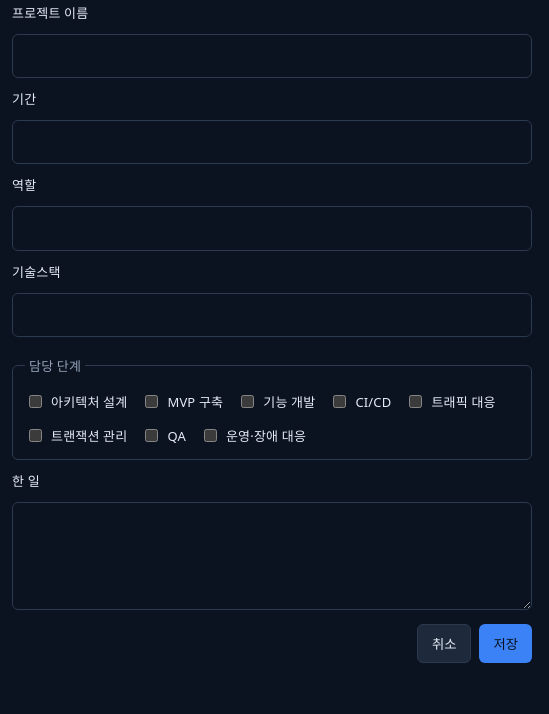
ProjectForm › does not close the form and shows an error when the vault is locked at submit time
The width and height of the screenshot is (549, 714).
Type "정산 서비스" into the field labelled "프로젝트 이름".
click(272, 56); type("정산 서비스")  # box 12,34 -> 532,78
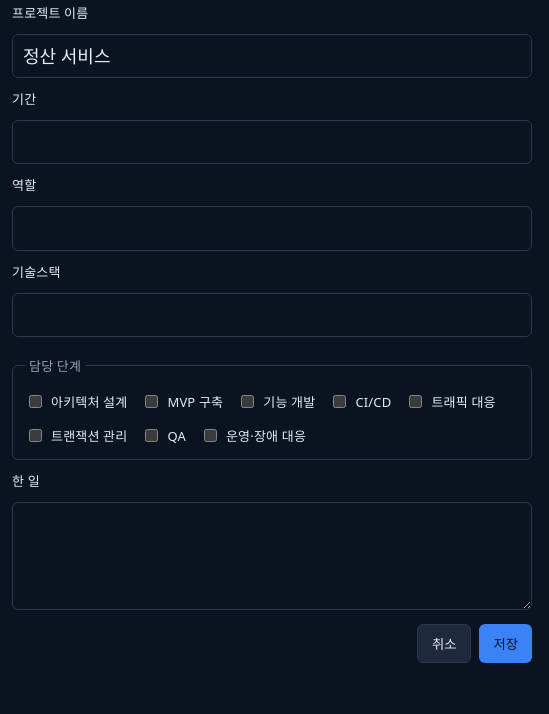
Type "Redis 캐시를 붙였다" into the text box labelled "한 일".
click(272, 556); type("Redis 캐시를 붙였다")  # box 12,502 -> 532,610
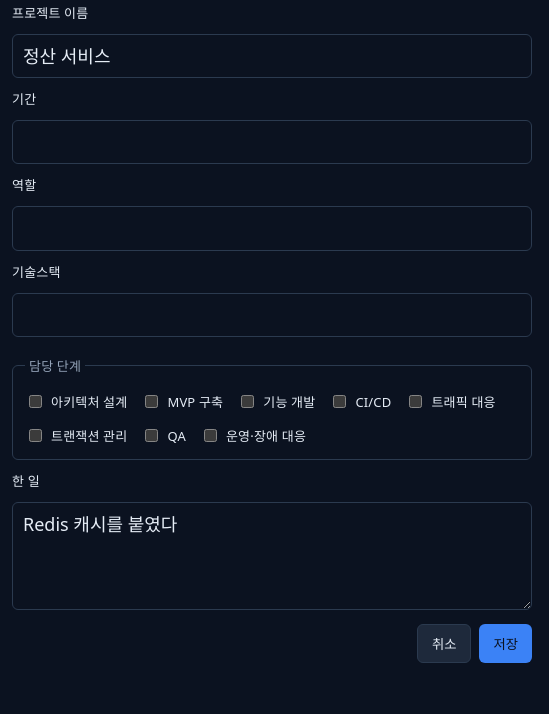
Click the button "저장".
click(506, 644)  # box 480,624 -> 532,663
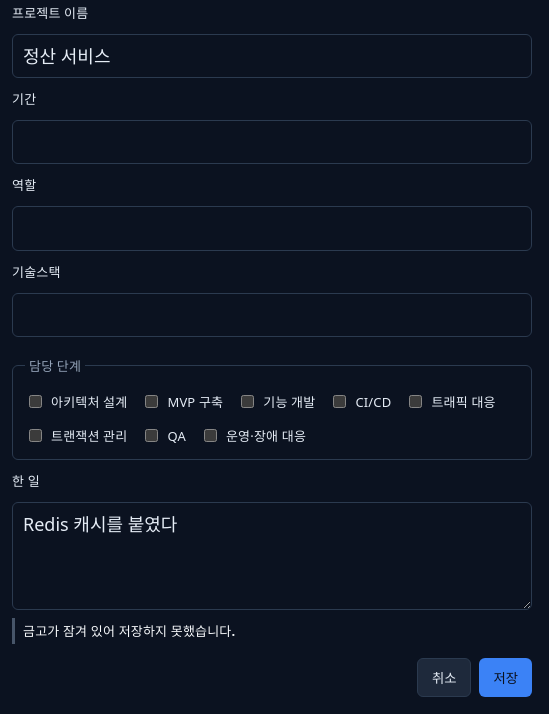
Expected: the text "금고가 잠겨 있어 저장하지 못했습니다." is shown, 12,618 -> 532,644
